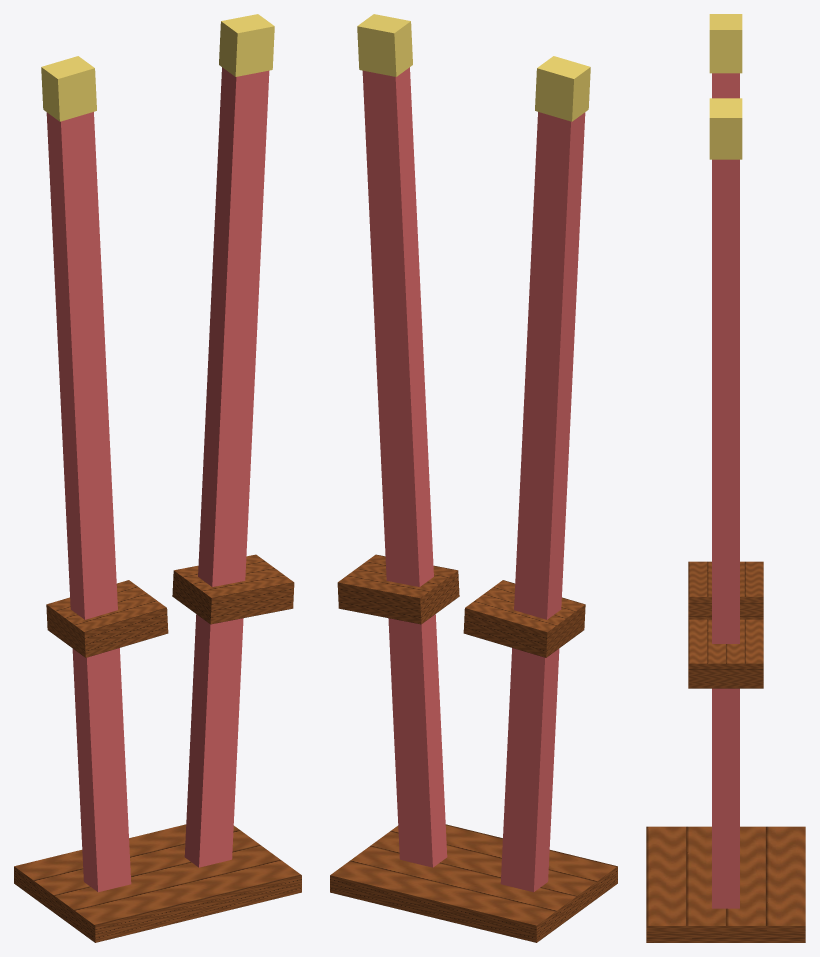
The model's file is travelling-circus-and-big-top-circus-stilts-546ade47__36257.glb.
3 views of the same model, side by side, from view 1: azimuth 30°, elevation 25°; view 2: azimuth 150°, elevation 25°; view 3: azimuth 270°, elevation 25° (orthographic).
Visible parts, largest first — view 1: circus-stilts-stripe, circus-stilts-timber, circus-stilts-gold; view 2: circus-stilts-stripe, circus-stilts-timber, circus-stilts-gold; view 3: circus-stilts-timber, circus-stilts-stripe, circus-stilts-gold.
Boxes of the visible parts, x1=… form: circus-stilts-stripe: x1=46, y1=67, x2=269, y2=892; circus-stilts-timber: x1=14, y1=554, x2=301, y2=942; circus-stilts-gold: x1=41, y1=14, x2=274, y2=121; circus-stilts-stripe: x1=362, y1=67, x2=585, y2=892; circus-stilts-timber: x1=330, y1=554, x2=617, y2=942; circus-stilts-gold: x1=357, y1=14, x2=590, y2=121; circus-stilts-timber: x1=646, y1=561, x2=805, y2=942; circus-stilts-stripe: x1=712, y1=73, x2=739, y2=908; circus-stilts-gold: x1=709, y1=14, x2=742, y2=159.
Bounding box in the file's own units: 0.5462 × 1.95 × 0.34.
3 materials, 1 textured.
